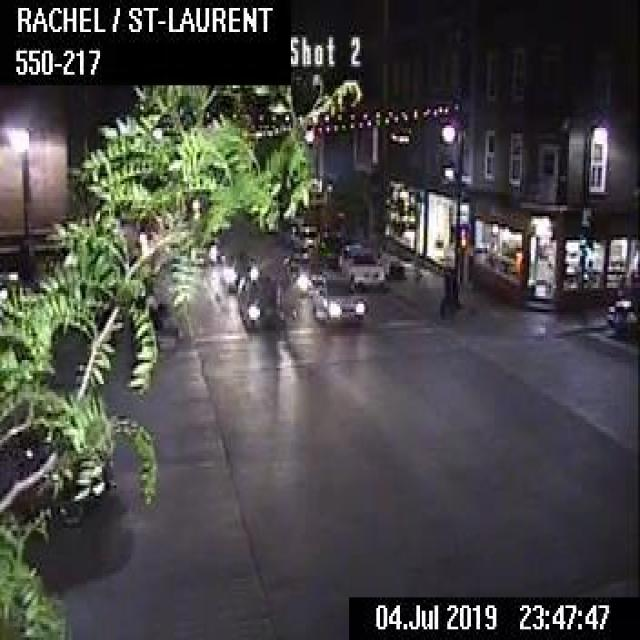vehicle: (0, 392, 115, 536), (310, 272, 365, 322), (238, 275, 287, 328), (338, 243, 382, 287), (285, 250, 325, 294), (219, 250, 257, 290), (606, 296, 638, 339), (288, 219, 322, 252)
